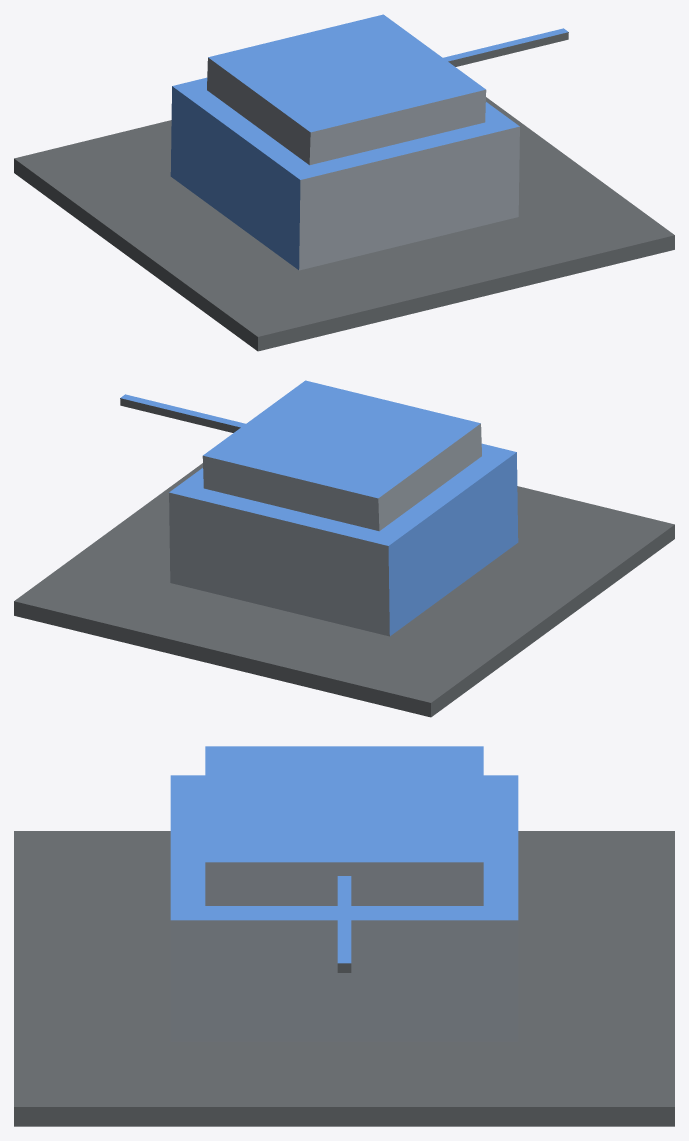
The model's file is veyran_advanced_defences_damaged.glb.
3 views of the same model, one above another, from view 1: azimuth 30°, elevation 25°; view 2: azimuth 150°, elevation 25°; view 3: azimuth 270°, elevation 25° (orthographic). The views are drawn at different scales.
Visible parts, largest first — view 1: hull, turret, barrel; view 2: hull, turret, barrel; view 3: hull, turret, barrel.
Part boxes in pixels (x1,y1,x2,y2): hull: (14, 77, 674, 351); turret: (207, 14, 486, 165); barrel: (443, 28, 568, 66); hull: (14, 443, 674, 717); turret: (202, 380, 481, 531); barrel: (120, 394, 245, 432); hull: (14, 775, 674, 1126); turret: (205, 746, 483, 905); barrel: (337, 876, 351, 972).
Size of the model in its own units: 7.74 by 2.36 by 7.6.
